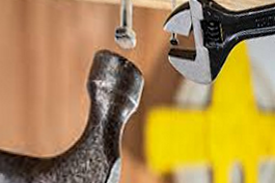Wrench: (148, 3, 275, 84)
